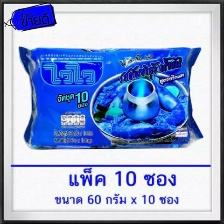snack: (11, 39, 208, 154)
